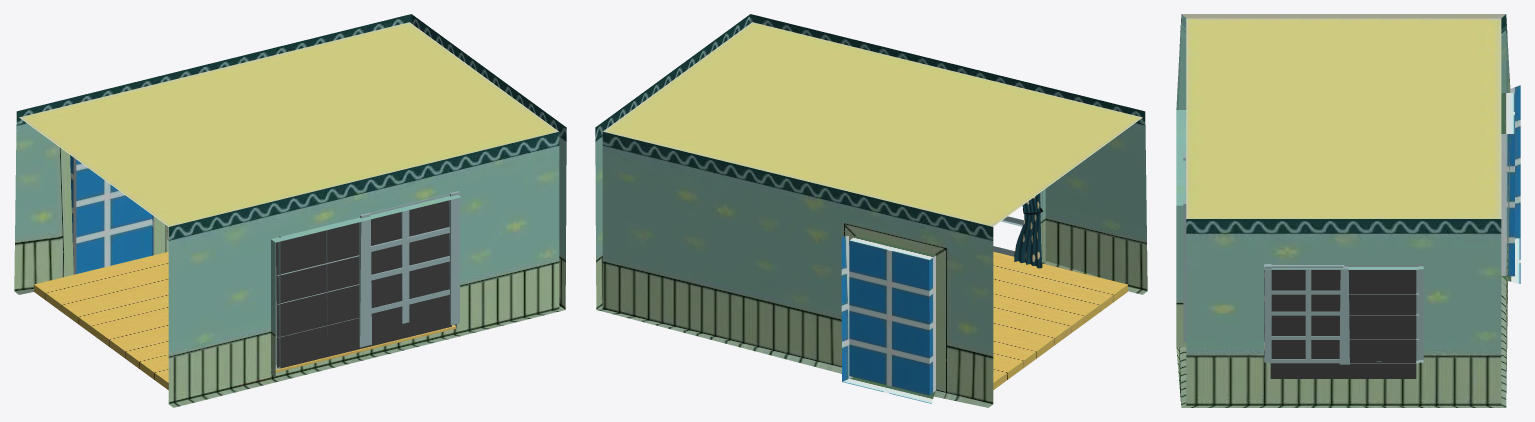
The model's file is room.glb.
3 renders of one model, left to right at view 1: azimuth 30°, elevation 25°; view 2: azimuth 150°, elevation 25°; view 3: azimuth 270°, elevation 25°, orthographic. The views are drawn at different scales.
Visible parts, largest first — view 1: mesh:lambert20SG, mesh:blinn12SG, mesh:lambert8SG, mesh:lambert19SG; view 2: mesh:lambert20SG, mesh:lambert8SG, mesh:lambert13SG; view 3: mesh:lambert20SG, mesh:blinn12SG, mesh:lambert19SG.
Boxes of the visible parts, box(x1,y1,x2,y2) form: mesh:lambert20SG: box(14, 14, 566, 407); mesh:blinn12SG: box(276, 200, 451, 369); mesh:lambert8SG: box(34, 251, 456, 389); mesh:lambert19SG: box(271, 191, 459, 371); mesh:lambert20SG: box(595, 14, 1147, 407); mesh:lambert8SG: box(993, 251, 1127, 389); mesh:lambert13SG: box(1014, 193, 1042, 268); mesh:lambert20SG: box(1176, 14, 1520, 407); mesh:blinn12SG: box(1270, 270, 1416, 378); mesh:lambert19SG: box(1183, 108, 1423, 364).
Bounding box in the file's own units: 22.81 × 10.28 × 16.21.
Materials: 36 (15 with a texture image).
